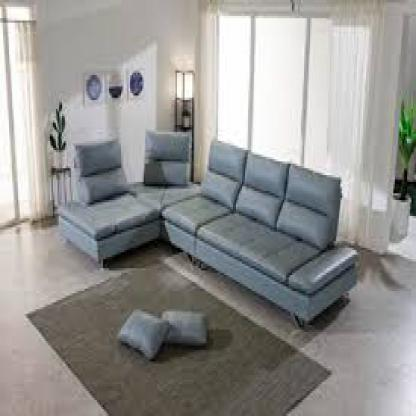sofa: (60, 141, 362, 334)
